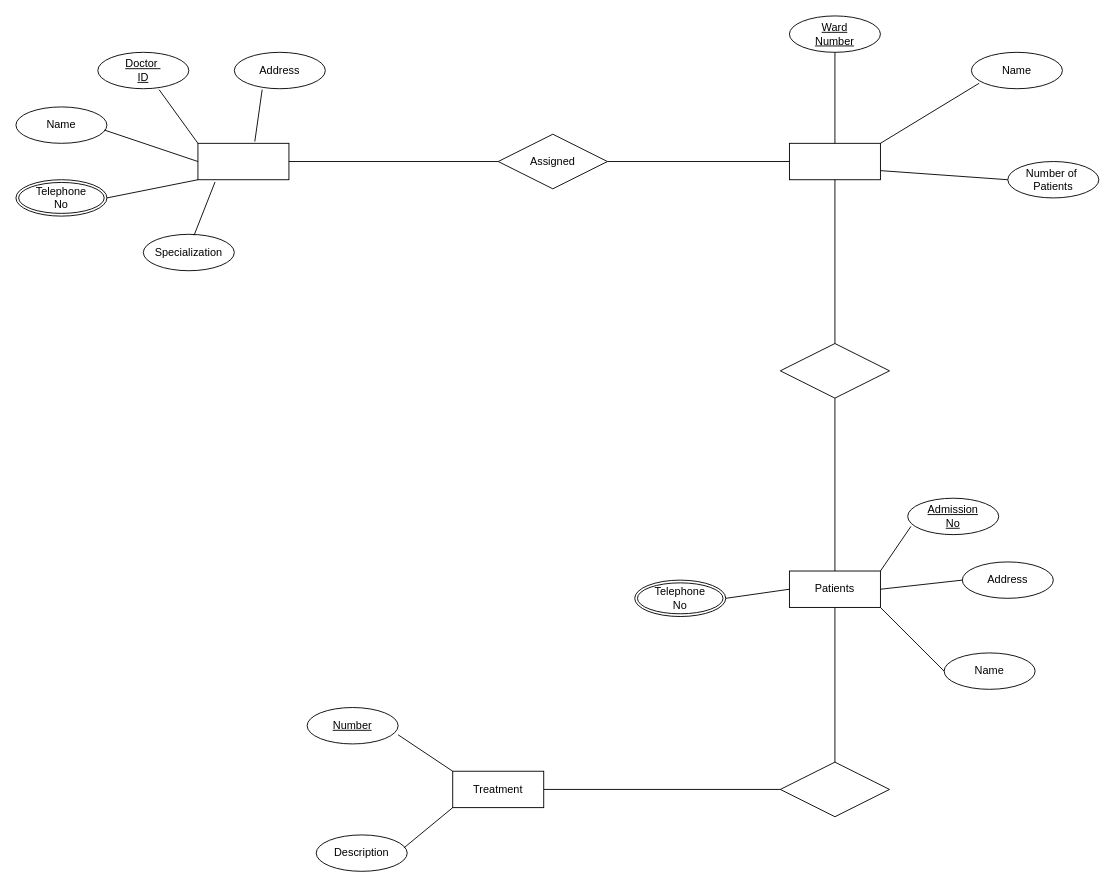
The diagram is 1115 pixels wide and 887 high, and some of its shapes have lost their labels. Each missing label, with the box of its shape:
Doctor: (197, 142, 289, 180)
Has: (779, 761, 890, 817)
Host: (779, 343, 890, 398)
Ward: (789, 142, 880, 180)
